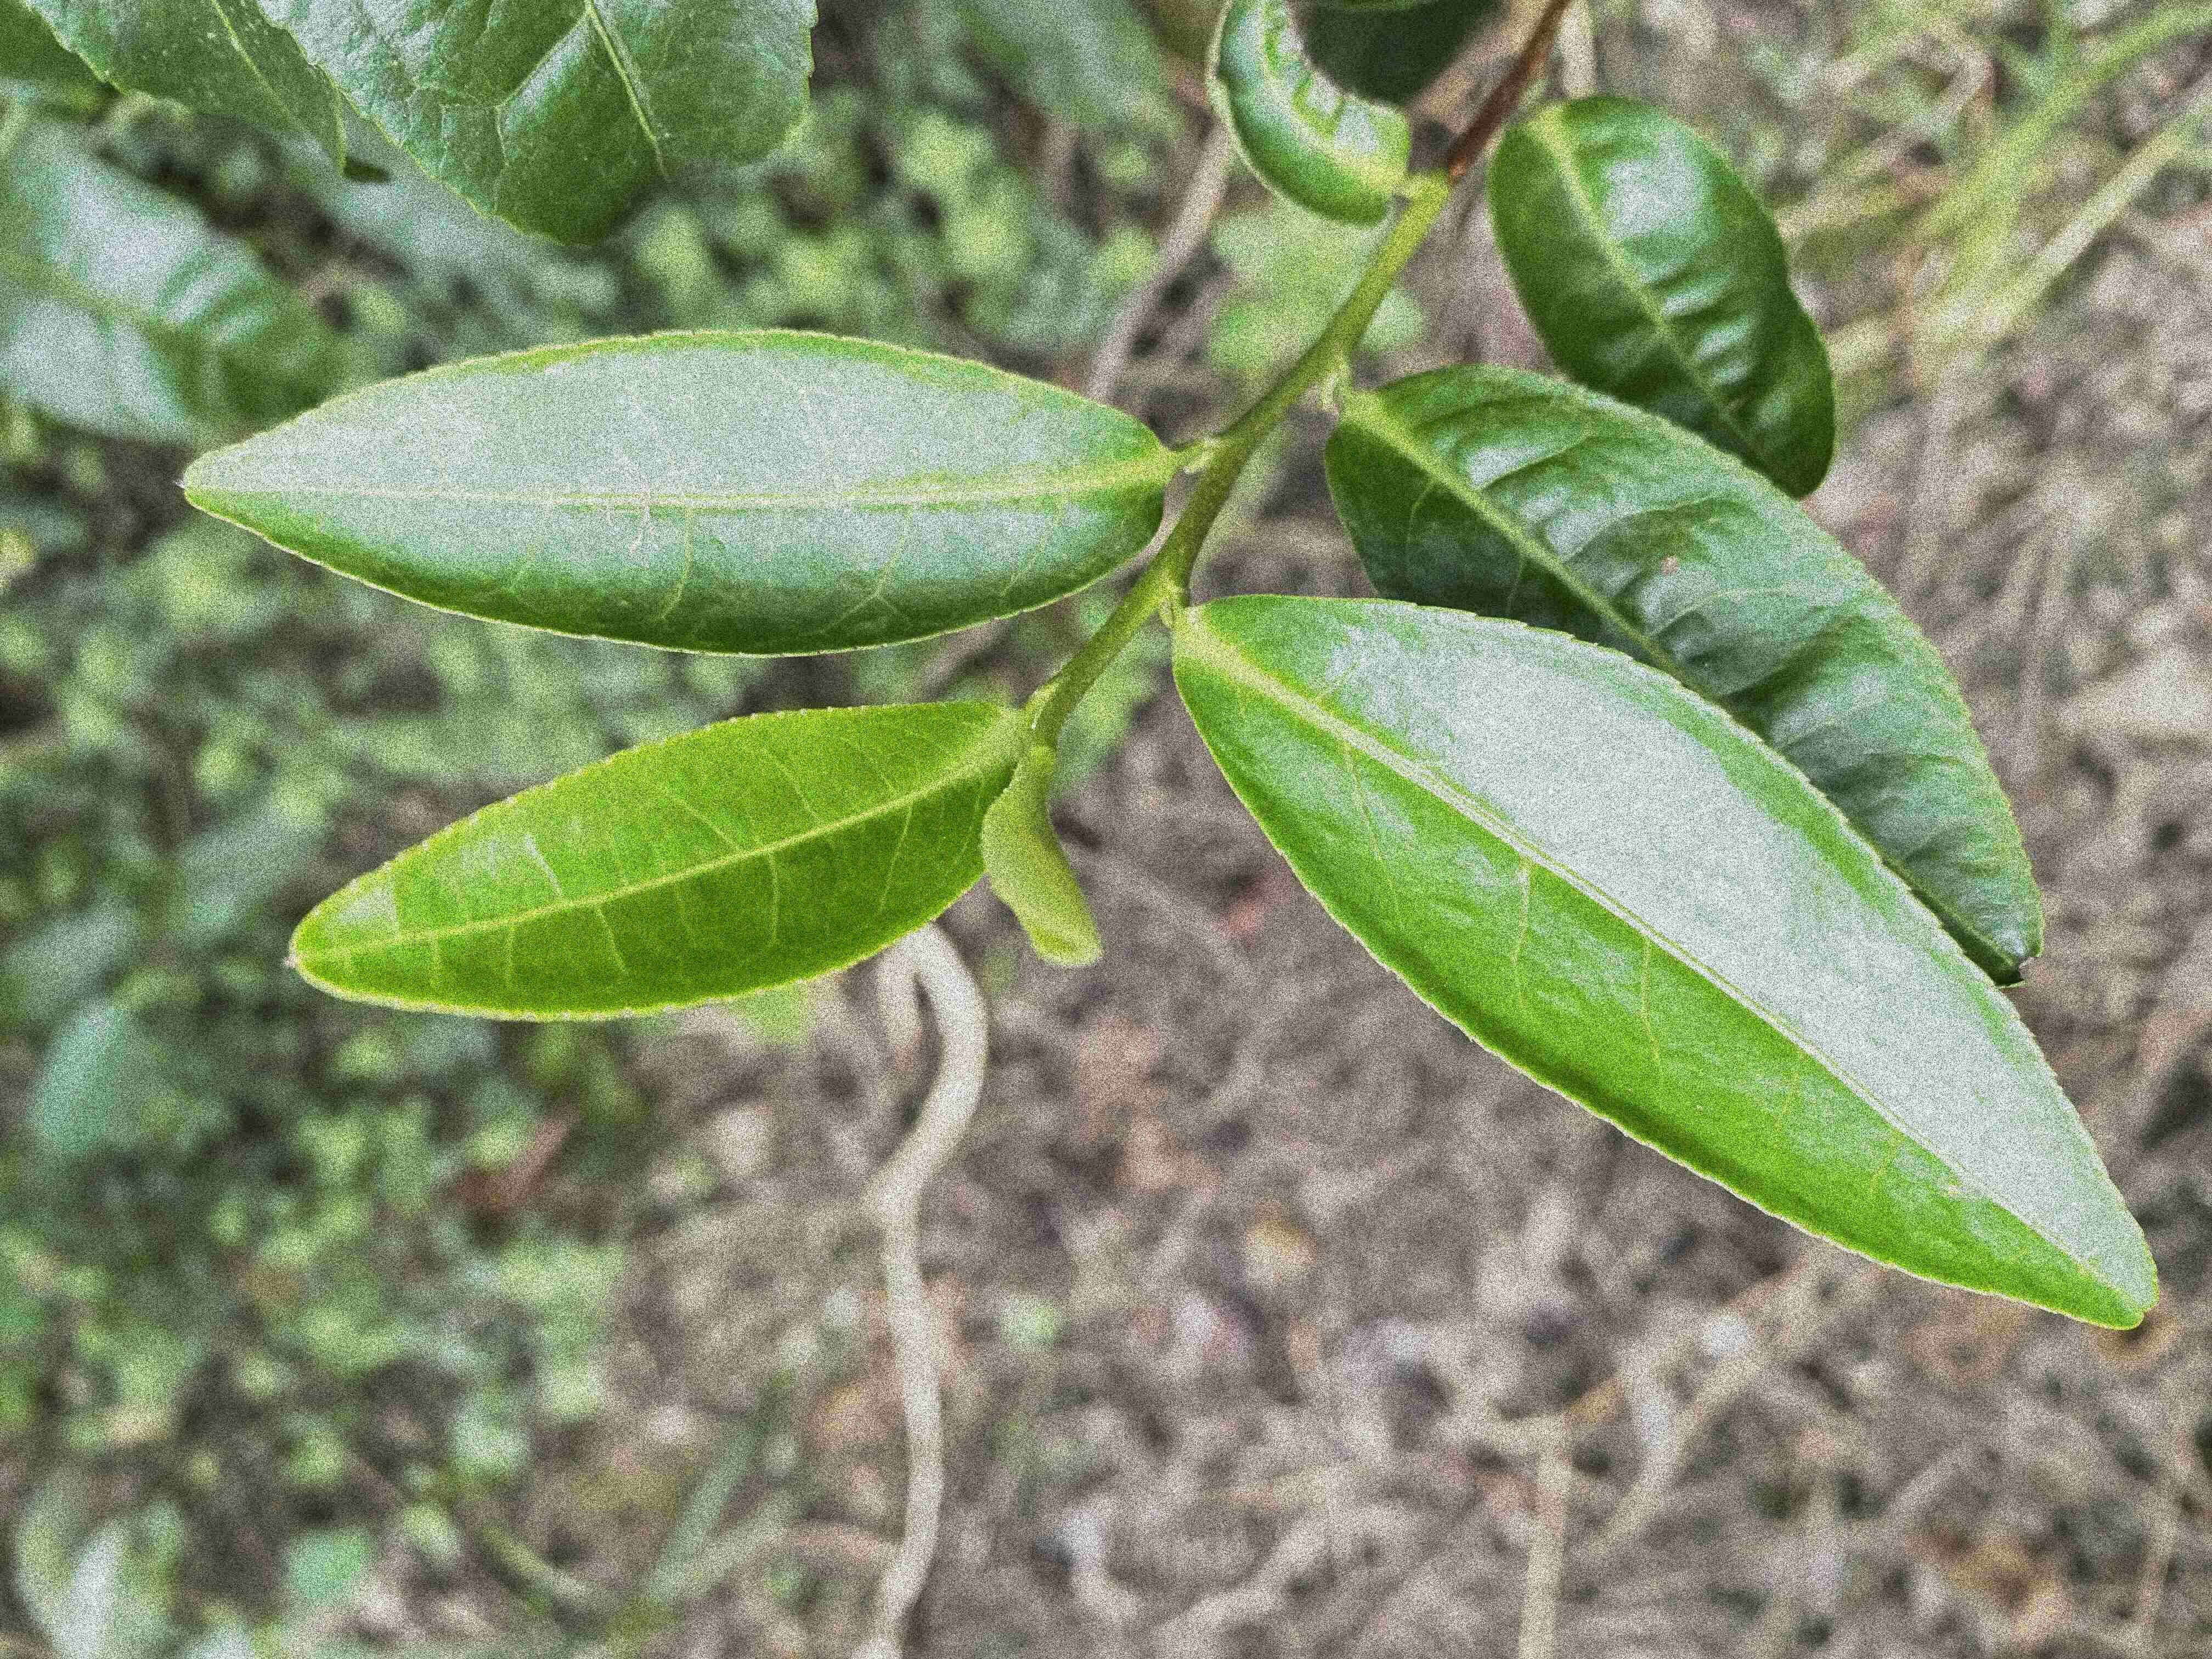healthy: (1174, 594, 2161, 1330), (178, 326, 1176, 662), (286, 694, 1024, 1025)
tanju_low: (1325, 361, 2043, 990)
